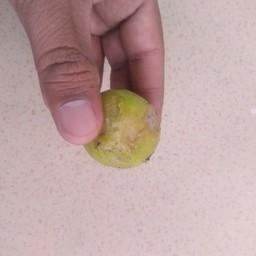Bad_lime: (89, 79, 159, 163)
